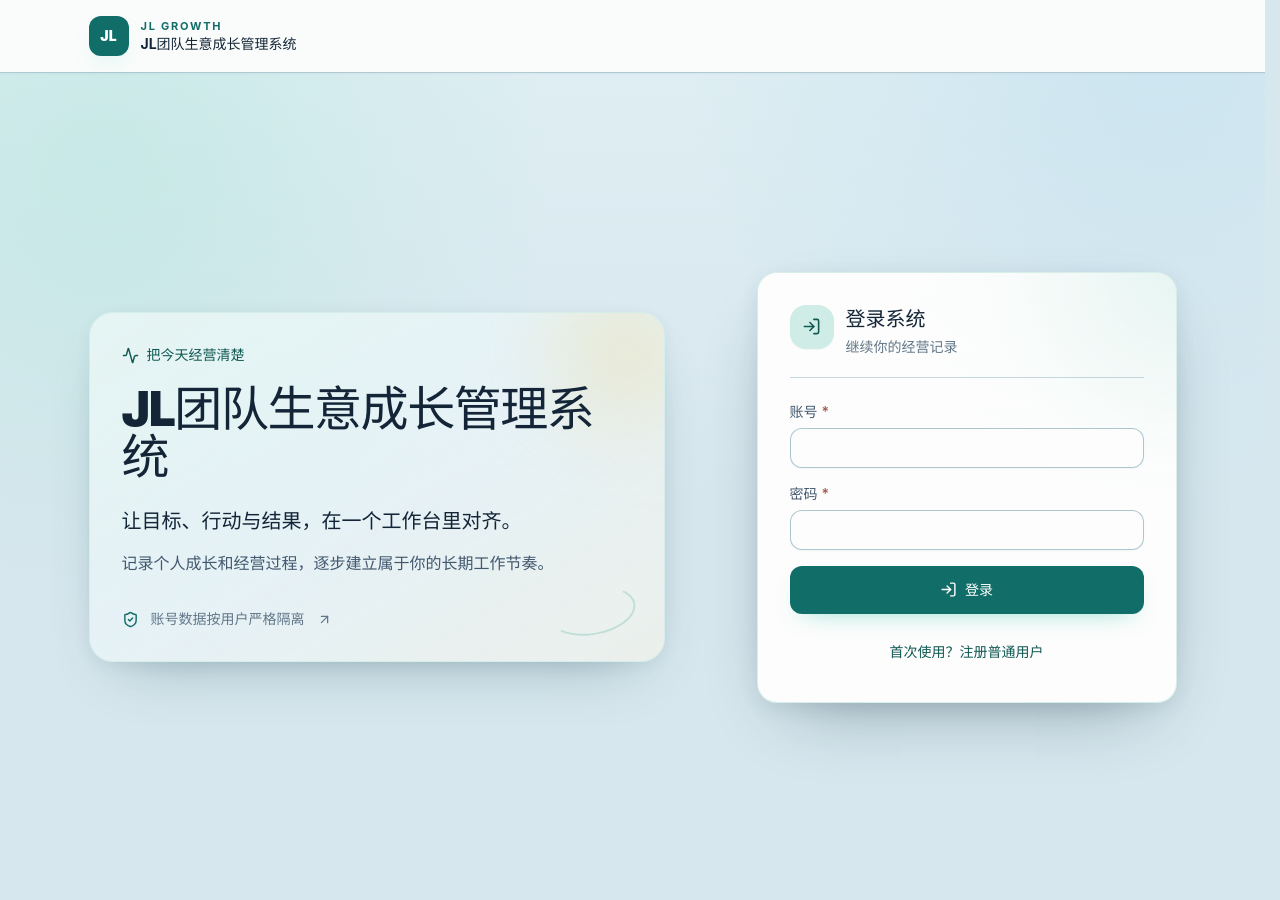
Test: App › returns to the login shell after logout
Type "owner" into the field labelled "账号" at [966, 448], box 790,428 -> 1144,468
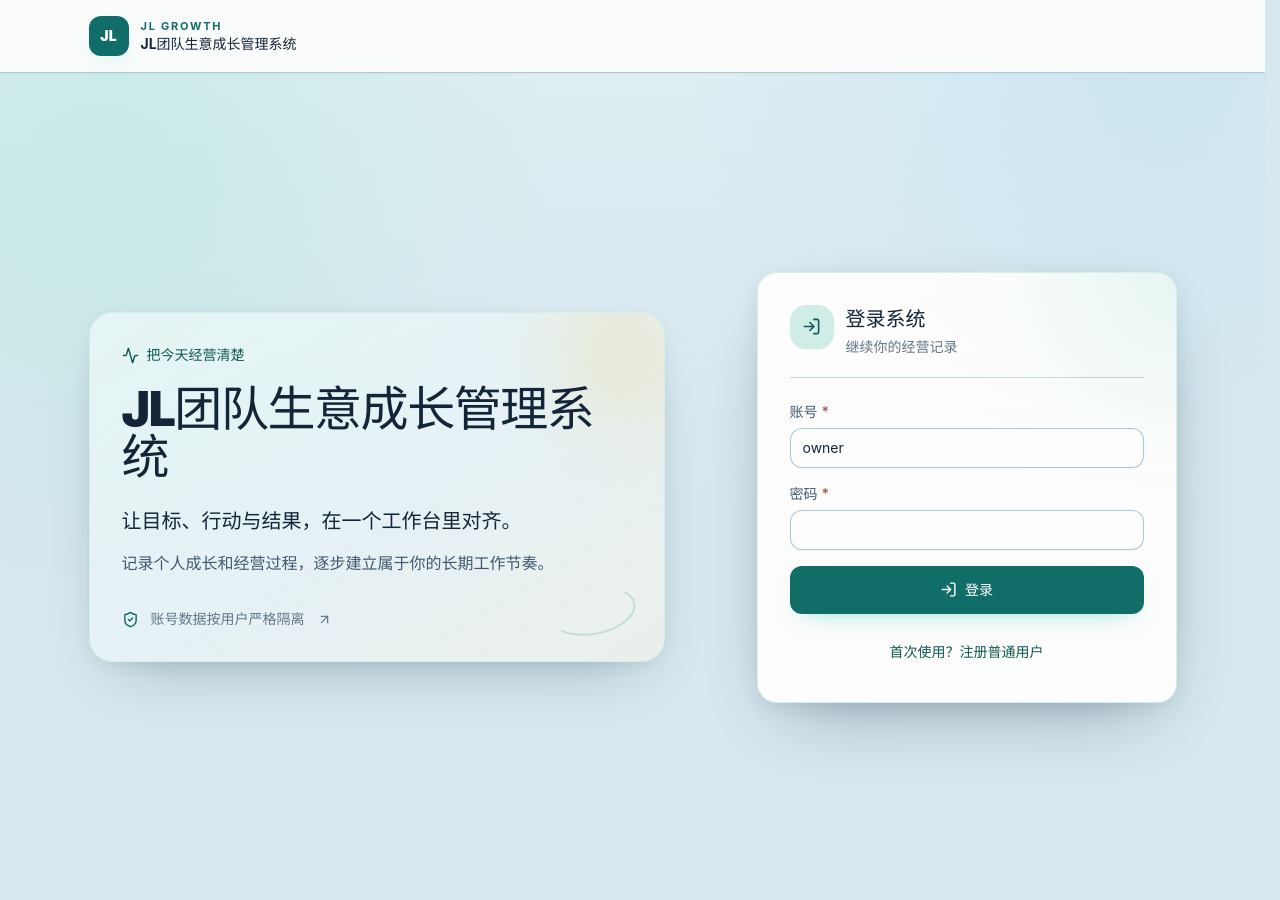
Type "correct horse battery" into the password field labelled "密码" at [966, 530], box 790,510 -> 1144,550
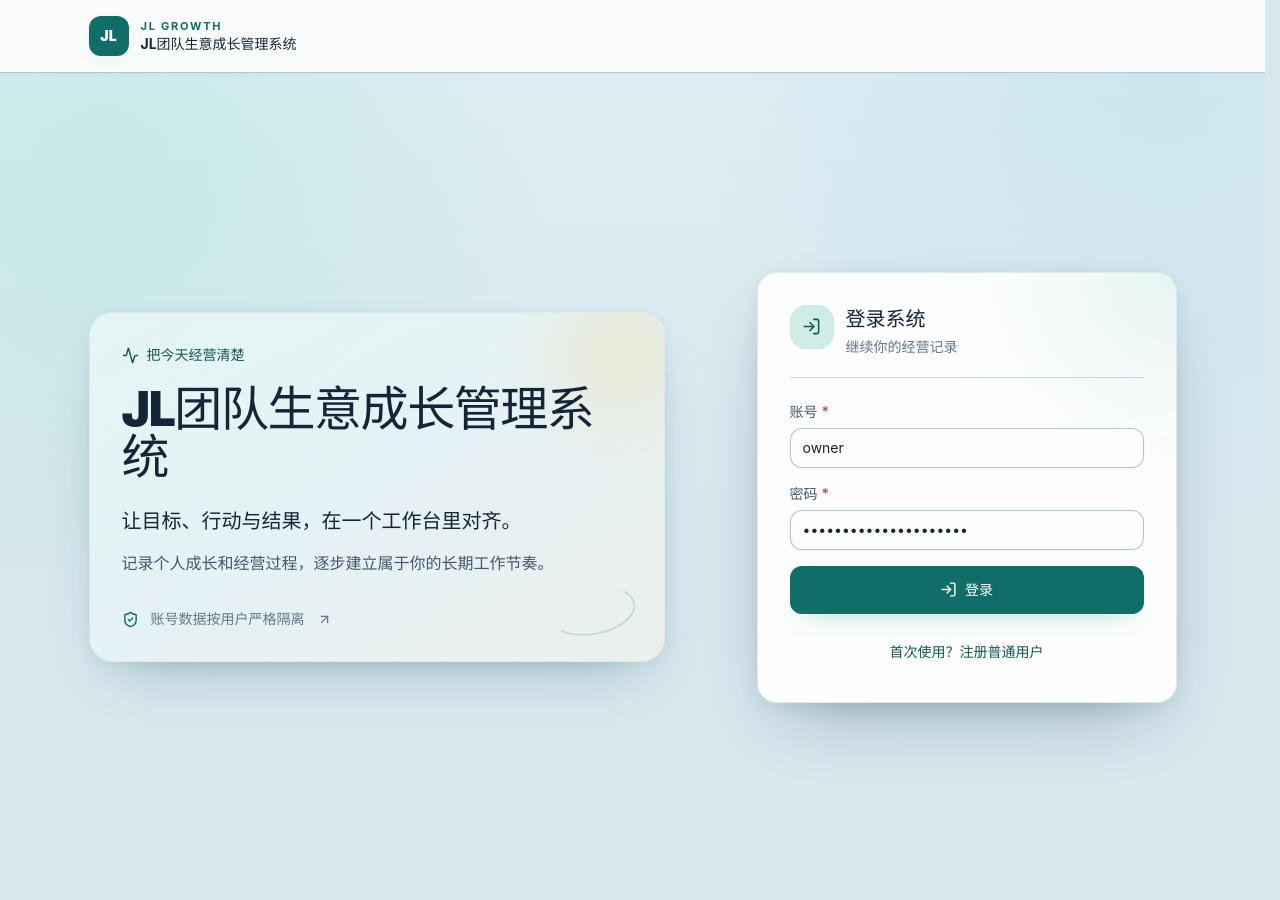
Click the button "登录" at [966, 590], box 790,566 -> 1144,614
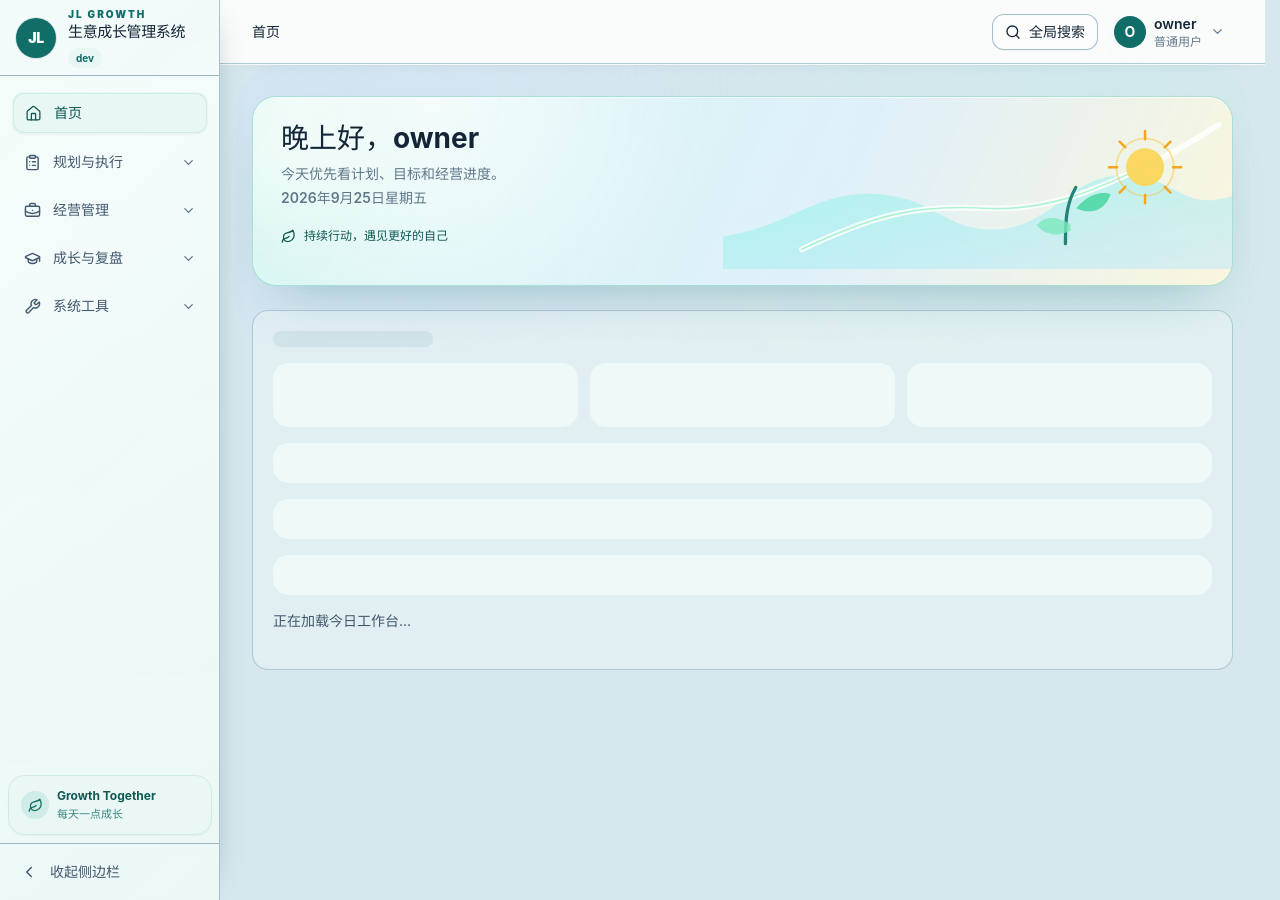
Expected: the heading "晚上好，owner" is shown, 281,121 -> 479,155
Click the button with aria-label "账号菜单 owner" at [1170, 32], box 1106,12 -> 1233,52
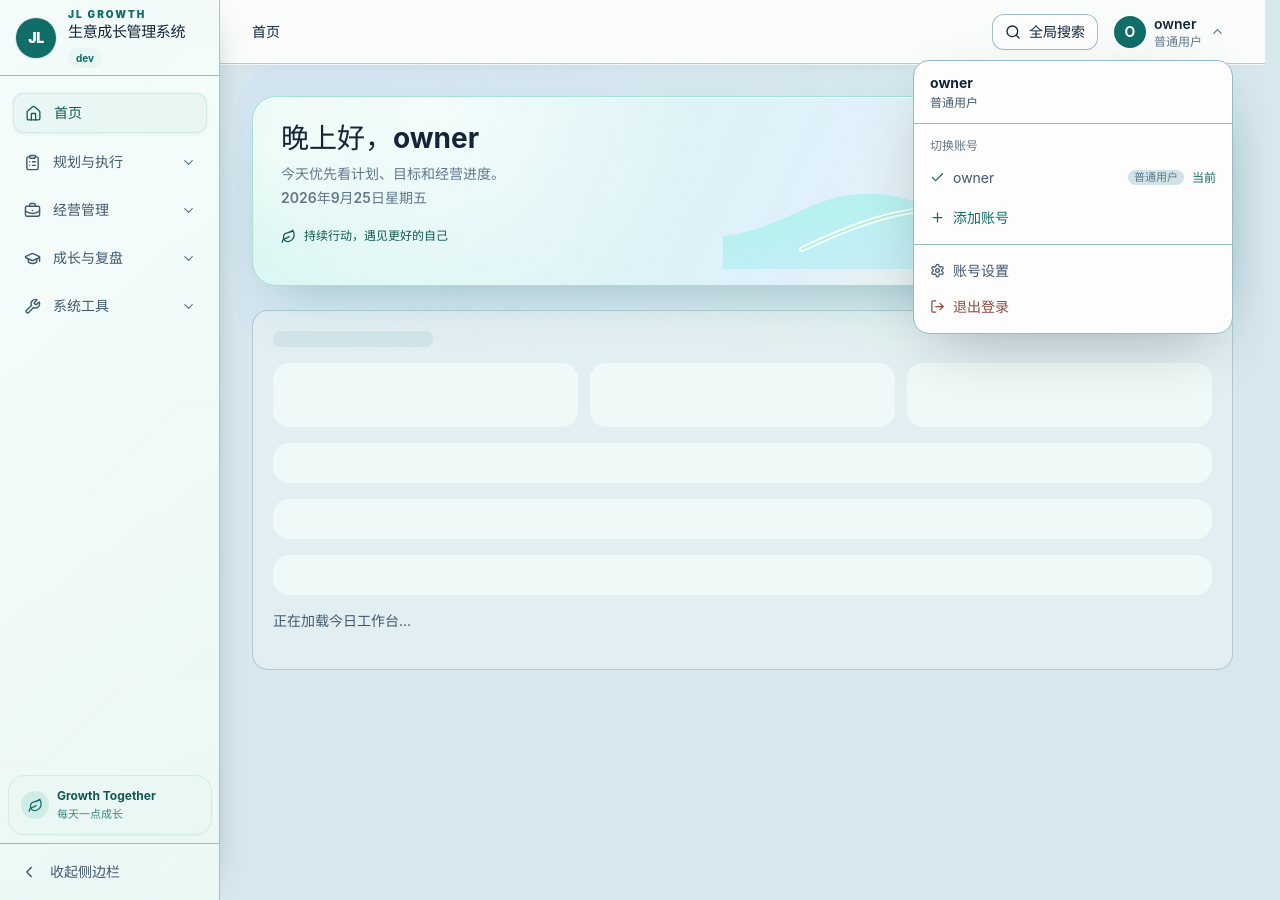
Click the menu item "退出登录" at [981, 306], box 922,288 -> 1224,324
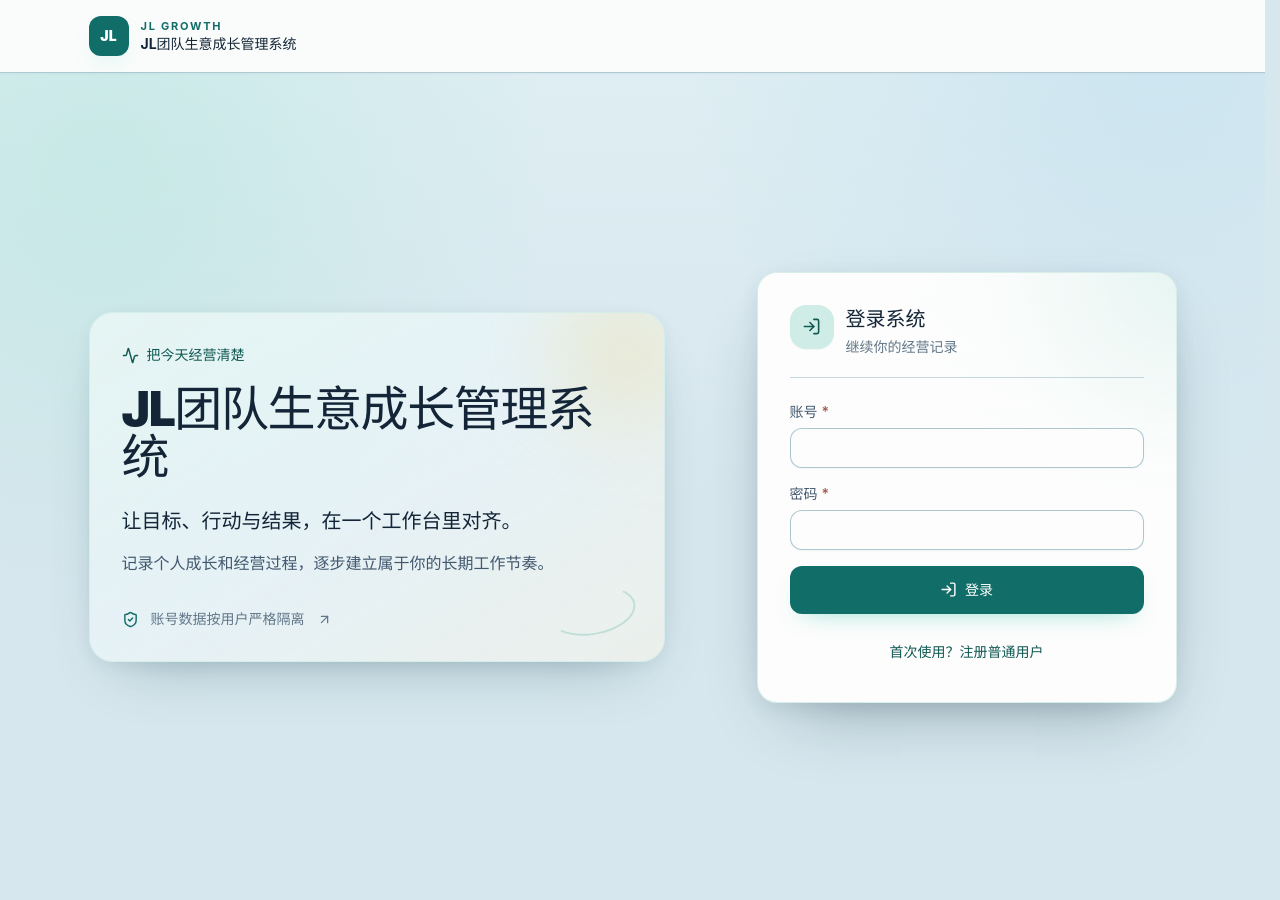
Expected: the heading "登录系统" is shown, 846,306 -> 926,330
